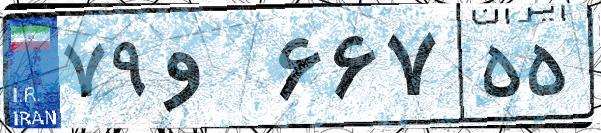5: (475, 38, 525, 113), (525, 38, 570, 115)
6: (270, 28, 330, 110), (330, 28, 385, 110)
7: (385, 28, 445, 110), (57, 26, 110, 100)
9: (110, 28, 158, 98)
و: (158, 20, 270, 120)
